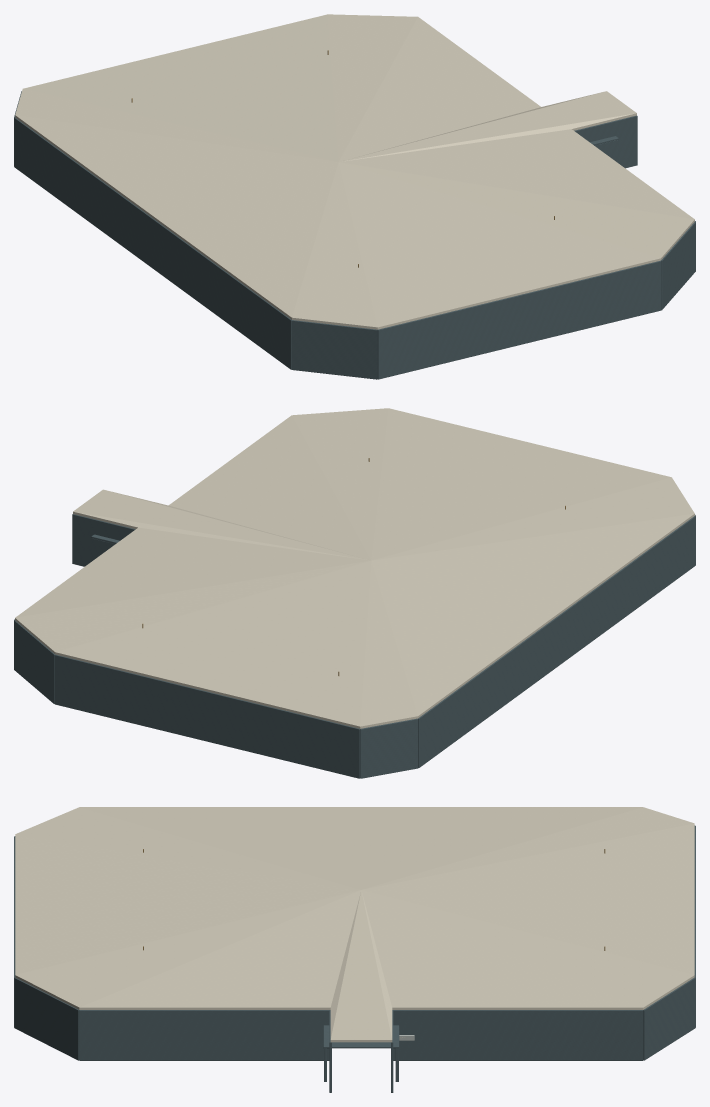
Rendered from SOL_D02_directory_05_source001.glb.
3 renders of one model, top to bottom at view 1: azimuth 30°, elevation 25°; view 2: azimuth 150°, elevation 25°; view 3: azimuth 270°, elevation 25°, orthographic.
Visible parts, largest first — view 1: Folded_roof_5, Folded_roof_7, Folded_roof_3, Enclosure_7, Enclosure_5, Folded_roof_9, Folded_roof_1, Folded_roof_8, Folded_roof_6, Folded_roof_2, Folded_roof_4, Enclosure_6 (+4 smaller); view 2: Folded_roof_5, Folded_roof_3, Folded_roof_7, Enclosure_3, Enclosure_5, Folded_roof_1, Folded_roof_9, Folded_roof_2, Folded_roof_8, Folded_roof_6, Folded_roof_4, Folded_roof_11 (+4 smaller); view 3: Folded_roof_3, Folded_roof_7, Folded_roof_5, Folded_roof_1, Folded_roof_9, Enclosure_9, Enclosure_1, Folded_roof_8, Folded_roof_2, Folded_roof_6, Folded_roof_11, Folded_roof_4 (+5 smaller).
Part boxes in pixels (<box>): Folded_roof_5: <box>15,115,338,319</box>; Folded_roof_7: <box>338,162,660,329</box>; Folded_roof_3: <box>23,14,338,161</box>; Enclosure_7: <box>377,260,661,379</box>; Enclosure_5: <box>14,117,291,369</box>; Folded_roof_9: <box>339,129,694,219</box>; Folded_roof_1: <box>339,17,540,161</box>; Folded_roof_8: <box>340,162,694,259</box>; Folded_roof_6: <box>292,163,377,329</box>; Folded_roof_2: <box>327,14,417,161</box>; Folded_roof_4: <box>15,89,335,161</box>; Enclosure_6: <box>291,320,377,379</box>; Folded_roof_5: <box>371,513,694,718</box>; Folded_roof_3: <box>55,560,371,728</box>; Folded_roof_7: <box>371,408,670,560</box>; Enclosure_3: <box>54,654,360,778</box>; Enclosure_5: <box>418,516,695,767</box>; Folded_roof_1: <box>15,527,370,617</box>; Folded_roof_9: <box>169,415,370,560</box>; Folded_roof_2: <box>15,561,368,653</box>; Folded_roof_8: <box>292,408,388,559</box>; Folded_roof_6: <box>373,477,694,560</box>; Folded_roof_4: <box>360,561,417,728</box>; Folded_roof_11: <box>73,489,369,560</box>; Folded_roof_3: <box>362,823,694,974</box>; Folded_roof_7: <box>15,834,360,974</box>; Folded_roof_5: <box>79,807,642,889</box>; Folded_roof_1: <box>361,890,643,1009</box>; Folded_roof_9: <box>79,890,361,1009</box>; Enclosure_9: <box>79,1010,329,1060</box>; Enclosure_1: <box>393,1010,643,1060</box>; Folded_roof_8: <box>15,890,359,1009</box>; Folded_roof_2: <box>362,890,694,1009</box>; Folded_roof_6: <box>15,807,359,889</box>; Folded_roof_11: <box>330,890,392,1042</box>; Folded_roof_4: <box>363,807,693,889</box>.
Bounding box in the file's own units: 43.1 × 5.35 × 53.2.
10 materials, 10 textured.
